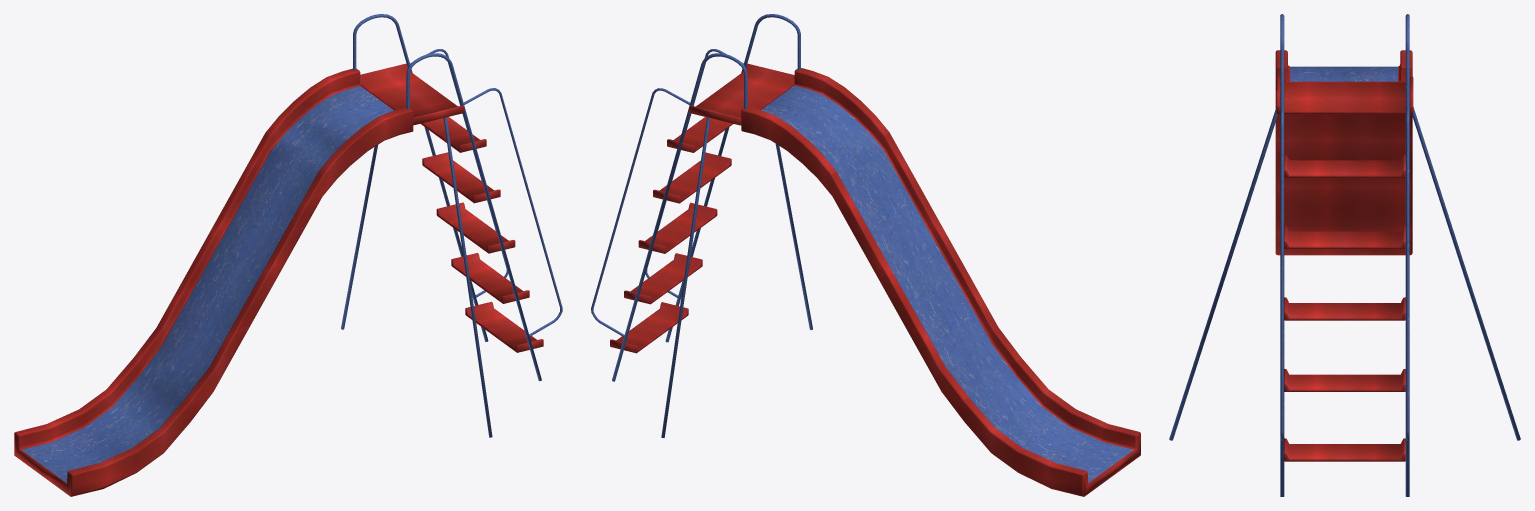
The model's file is slide-textured.fbx.
The picture shows the model from 3 angles, left to right: view 1: azimuth 30°, elevation 25°; view 2: azimuth 150°, elevation 25°; view 3: azimuth 270°, elevation 25°; orthographic projection. The views are drawn at different scales.
Visible parts, largest first — view 1: slide, steps, ladder-rail, ladder-rail.001; view 2: slide, steps, ladder-rail, ladder-rail.001; view 3: slide, steps, ladder-rail, ladder-rail.001.
Part boxes in pixels (left/top/right/bottom): slide: left=14, top=68, right=413, bottom=496; steps: left=360, top=63, right=543, bottom=352; ladder-rail: left=353, top=14, right=562, bottom=381; ladder-rail.001: left=341, top=117, right=492, bottom=437; slide: left=741, top=68, right=1140, bottom=496; steps: left=610, top=63, right=794, bottom=353; ladder-rail: left=591, top=14, right=800, bottom=381; ladder-rail.001: left=661, top=117, right=812, bottom=437; slide: left=1275, top=50, right=1412, bottom=255; steps: left=1276, top=76, right=1413, bottom=461; ladder-rail: left=1280, top=14, right=1409, bottom=496; ladder-rail.001: left=1169, top=107, right=1520, bottom=440.
Size of the model in its own units: 7.67 by 5.25 by 4.03.
Materials: 3 (3 with a texture image).
